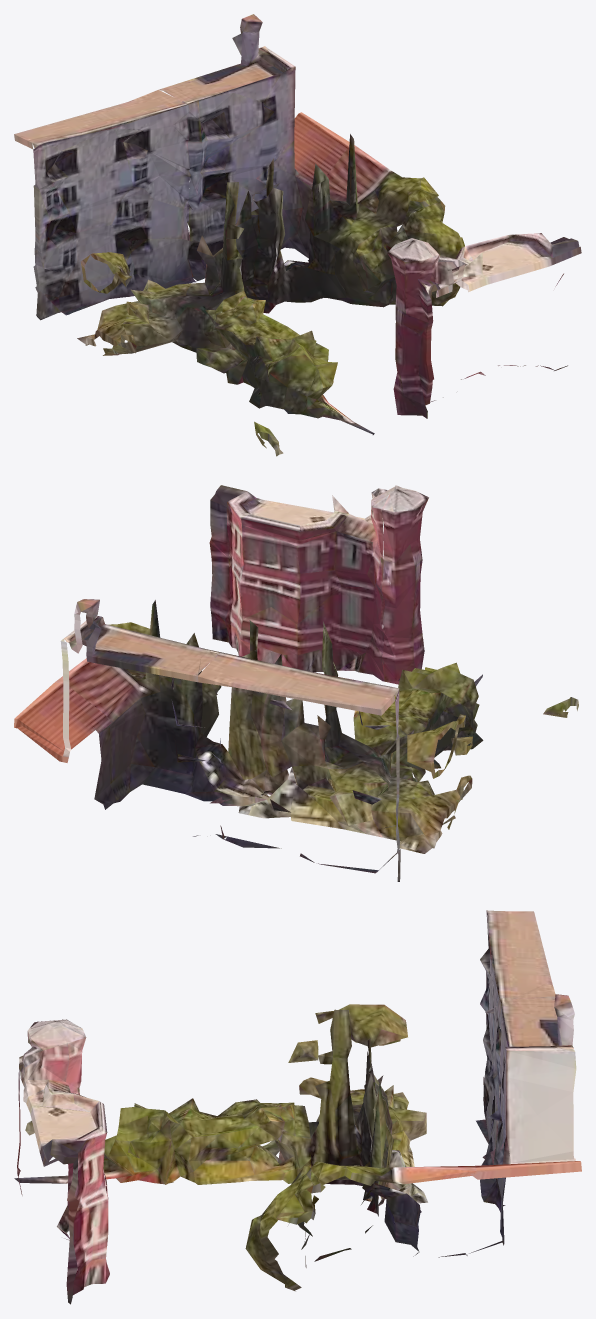
3 views of the same model, one above another, from view 1: azimuth 30°, elevation 25°; view 2: azimuth 150°, elevation 25°; view 3: azimuth 270°, elevation 25° (orthographic). The views are drawn at different scales.
Parts seen in each view (by area): view 1: Mesh_0; view 2: Mesh_0; view 3: Mesh_0.
Part boxes in pixels (<box>): Mesh_0: <box>14,14,581,456</box>; Mesh_0: <box>14,485,578,881</box>; Mesh_0: <box>14,910,581,1304</box>.
Size of the model in its own units: 33.32 by 19.66 by 40.2.
Materials: 2 (2 with a texture image).
